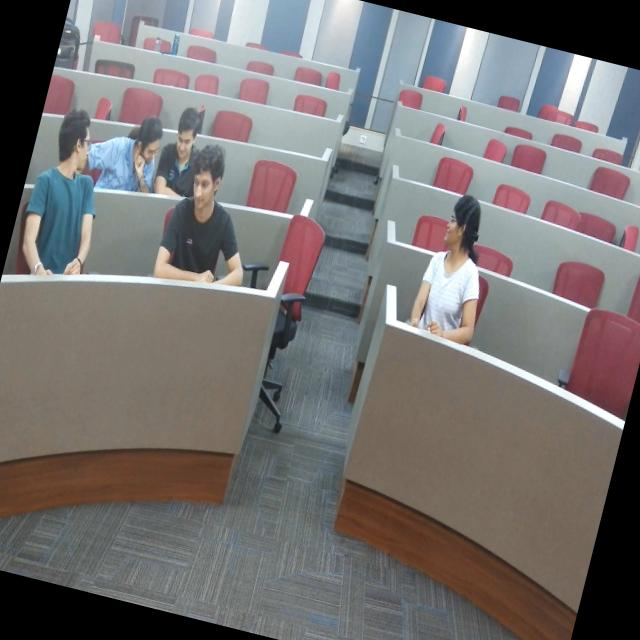cheating: (8, 96, 118, 302), (143, 136, 259, 300), (398, 189, 502, 355), (78, 82, 184, 216)
